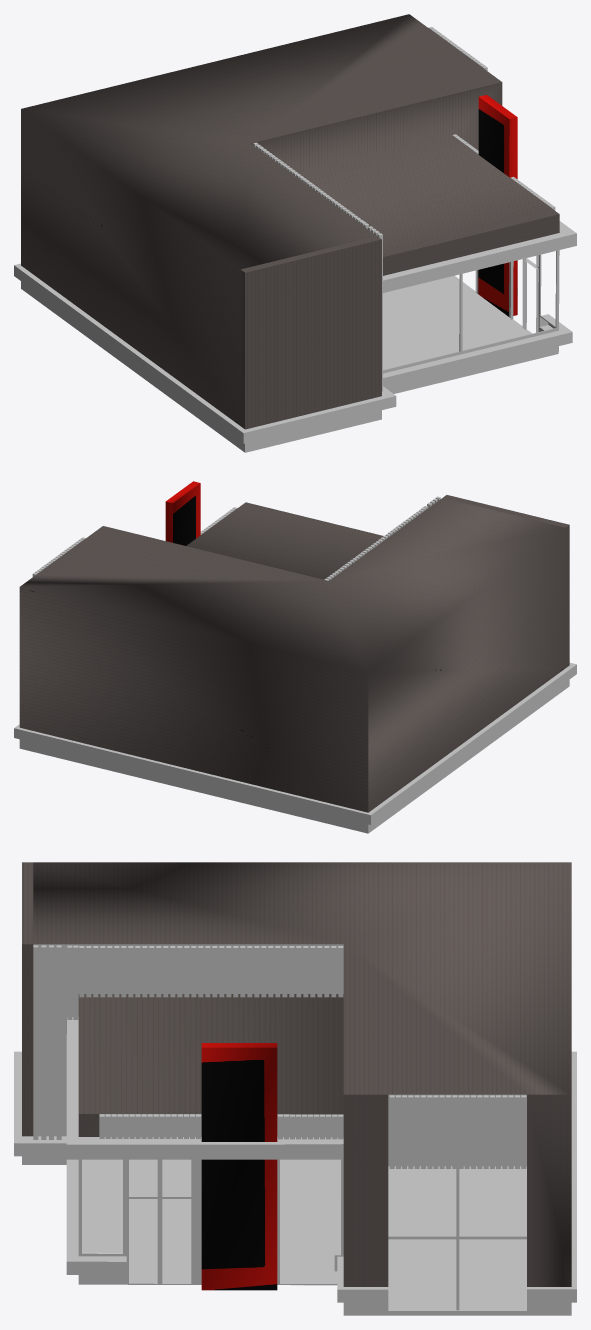
Rendered from Uncle Vanya.obj.
The picture shows the model from 3 angles, top to bottom: view 1: azimuth 30°, elevation 25°; view 2: azimuth 150°, elevation 25°; view 3: azimuth 270°, elevation 25°; orthographic projection. The views are drawn at different scales.
Visible parts, largest first — view 1: blackbuild, pollbuild, whitebuild, redbuild, framebuild, stickbuild; view 2: blackbuild, whitebuild, pollbuild, redbuild, stickbuild; view 3: blackbuild, pollbuild, stickbuild, redbuild, whitebuild, woodbuild, framebuild.
Boxes of the visible parts, x1,y1,x2,y2 form: blackbuild: (21, 14, 559, 429); pollbuild: (21, 262, 558, 452); whitebuild: (14, 221, 576, 443); redbuild: (478, 95, 517, 316); framebuild: (383, 250, 559, 373); stickbuild: (253, 27, 555, 391); blackbuild: (19, 495, 569, 812); whitebuild: (14, 662, 576, 824); pollbuild: (19, 680, 569, 833); redbuild: (165, 481, 200, 545); stickbuild: (32, 496, 440, 580); blackbuild: (22, 862, 571, 1286); pollbuild: (22, 1156, 571, 1315); stickbuild: (33, 945, 526, 1168); redbuild: (201, 1043, 277, 1290); whitebuild: (14, 1017, 576, 1302); woodbuild: (33, 944, 526, 1166); framebuild: (78, 1159, 526, 1315).
Size of the model in its own units: 13.34 by 6.34 by 13.35.
